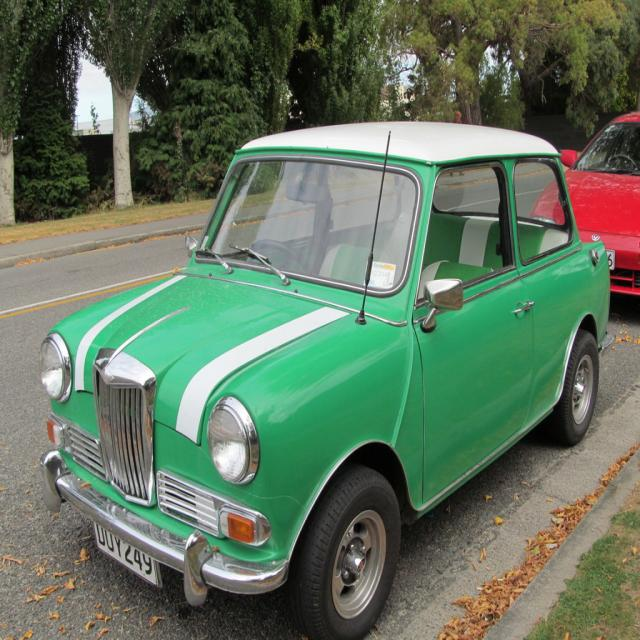car: (39, 110, 613, 639)
